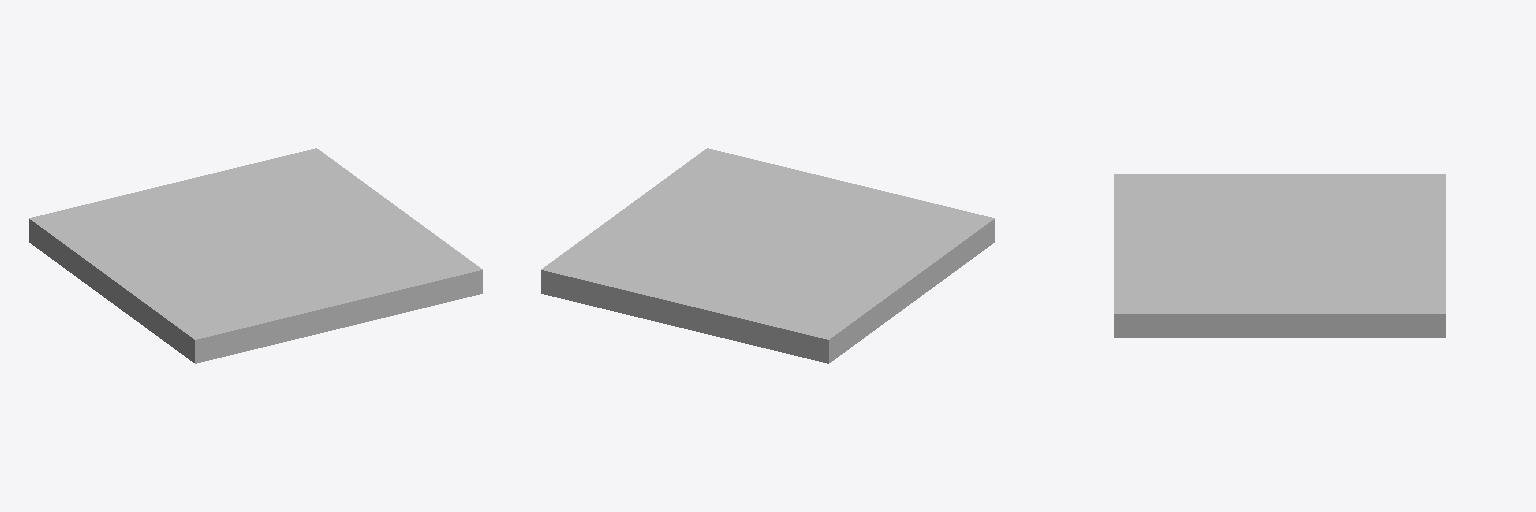
File: Chao Infinito.obj
The picture shows the model from 3 angles: view 1: azimuth 30°, elevation 25°; view 2: azimuth 150°, elevation 25°; view 3: azimuth 270°, elevation 25°; orthographic projection.
Size of the model in its own units: 126 by 10 by 126.